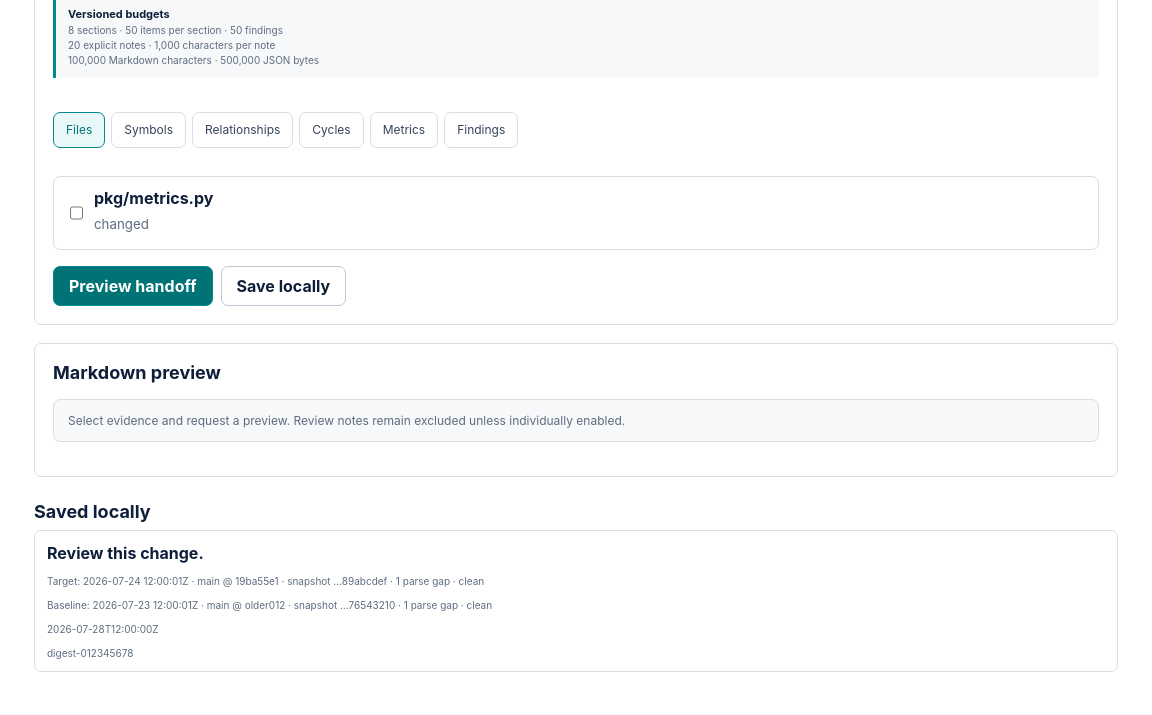
it: HandoffView › keeps schema-3 generic status neutral while reopening a version-mismatch handoff
(page scrolled)
Step 1. Click the button "Review this change" → (576, 601), box [34, 530, 1118, 672]
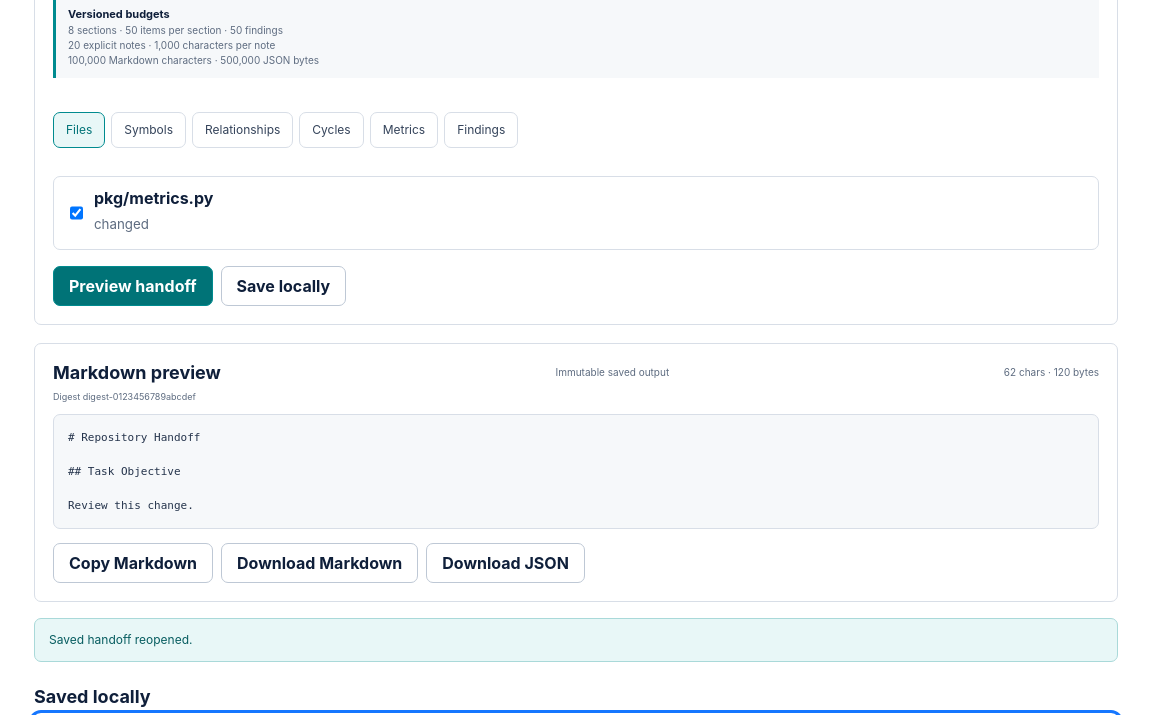
expect the text "# Repository Handoff" is shown: met, box [68, 431, 200, 512]
